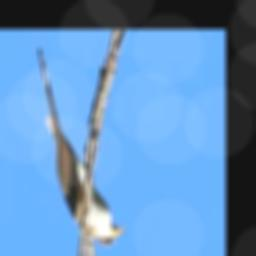Cuckoo: (38, 49, 125, 249)
